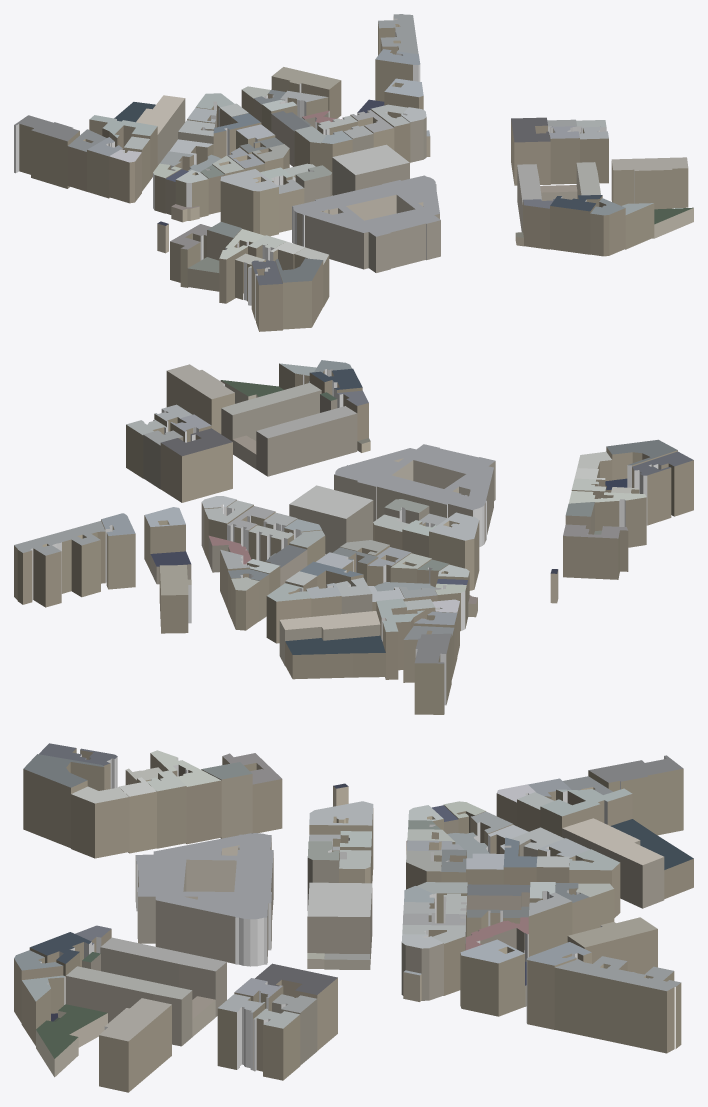
3 views of the same model, one above another, from view 1: azimuth 30°, elevation 25°; view 2: azimuth 150°, elevation 25°; view 3: azimuth 270°, elevation 25° (orthographic). The views are drawn at different scales.
Visible parts, largest first — view 1: tuile; view 2: tuile; view 3: tuile.
Part boxes in pixels (x1,y1,x2,y2): tuile: [14, 14, 693, 331]; tuile: [14, 360, 693, 714]; tuile: [14, 743, 693, 1092].
Bounding box in the file's own units: 279 × 35.2 × 271.
